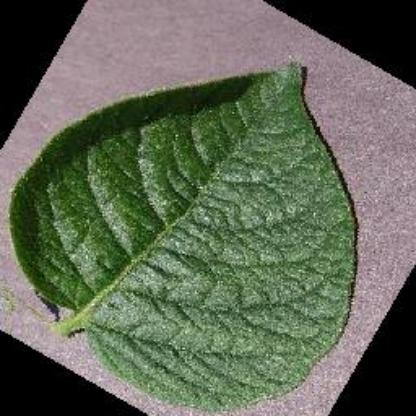Healthy-plant: (13, 42, 369, 408)
